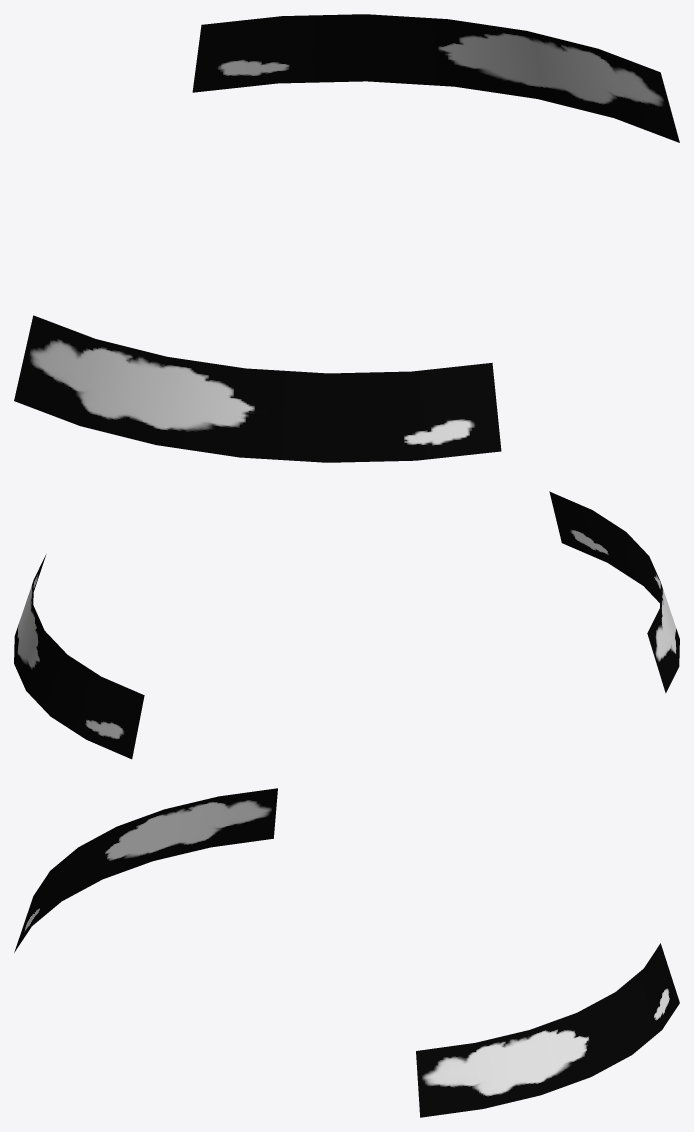
The model's file is Cloud3.obj.
3 renders of one model, top to bottom at view 1: azimuth 30°, elevation 25°; view 2: azimuth 150°, elevation 25°; view 3: azimuth 270°, elevation 25°, orthographic. The views are drawn at different scales.
Visible parts, largest first — view 1: Object002; view 2: Object002; view 3: Object002.
Boxes of the visible parts, x1=… form: Object002: x1=14, y1=14, x2=679, y2=462; Object002: x1=14, y1=491, x2=679, y2=759; Object002: x1=14, y1=788, x2=679, y2=1117.
Size of the model in its own units: 26.07 by 2.55 by 26.3.
